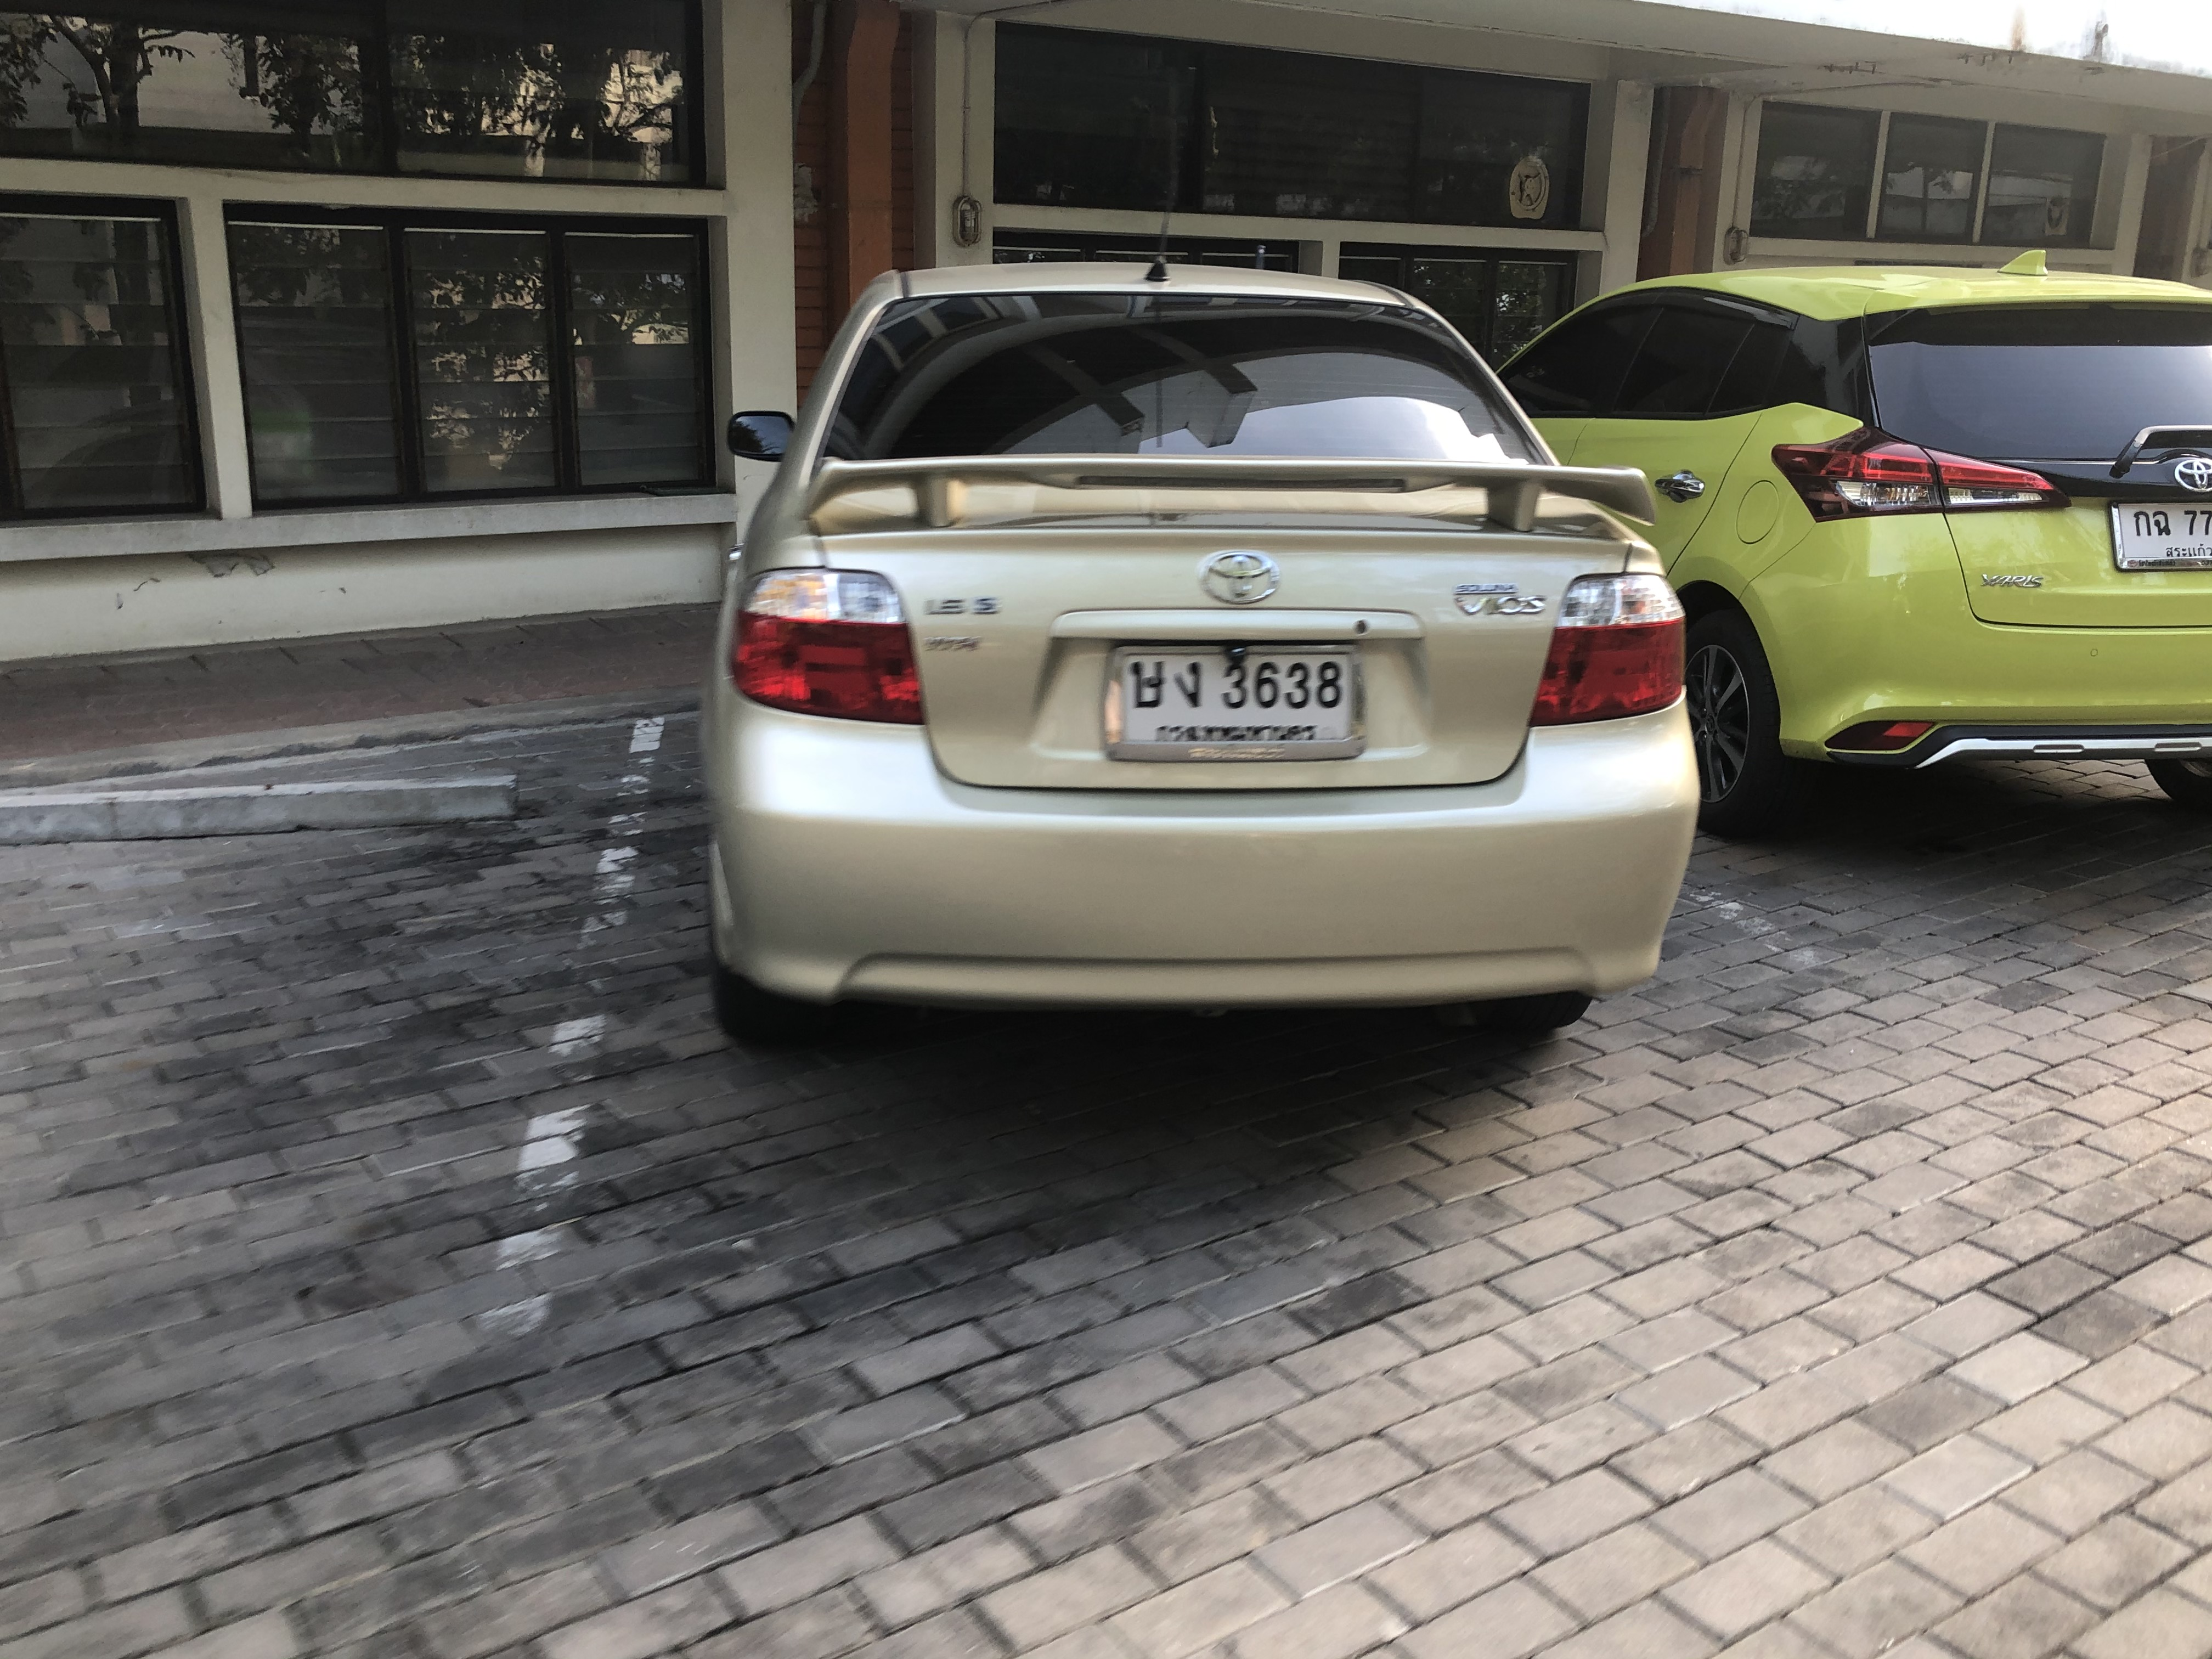in: (1122, 655, 1355, 746)
out: (1094, 634, 1378, 767)
